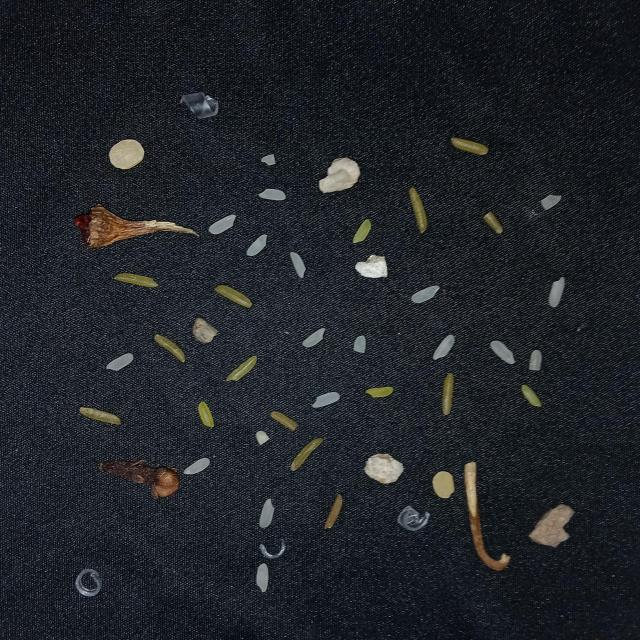Broken: (290, 438, 324, 471), (154, 333, 186, 362), (409, 187, 428, 234), (216, 285, 252, 308), (79, 406, 122, 425), (226, 354, 257, 380), (114, 273, 159, 288), (451, 137, 488, 155), (324, 493, 342, 529), (432, 471, 456, 498), (271, 411, 299, 432), (483, 210, 504, 234), (521, 384, 542, 408), (352, 219, 372, 244), (442, 373, 453, 415), (199, 401, 215, 428), (541, 194, 562, 210), (366, 387, 394, 398), (528, 350, 542, 371), (256, 430, 270, 446), (354, 335, 366, 353), (261, 154, 276, 166)
Full: (490, 340, 516, 365), (208, 214, 236, 235), (433, 335, 455, 360), (548, 276, 565, 308), (411, 286, 440, 304), (106, 353, 134, 371), (246, 234, 268, 256), (312, 392, 341, 408), (183, 458, 210, 475), (302, 328, 326, 347), (260, 498, 274, 528), (290, 252, 306, 278), (256, 563, 269, 593), (259, 188, 286, 200)
